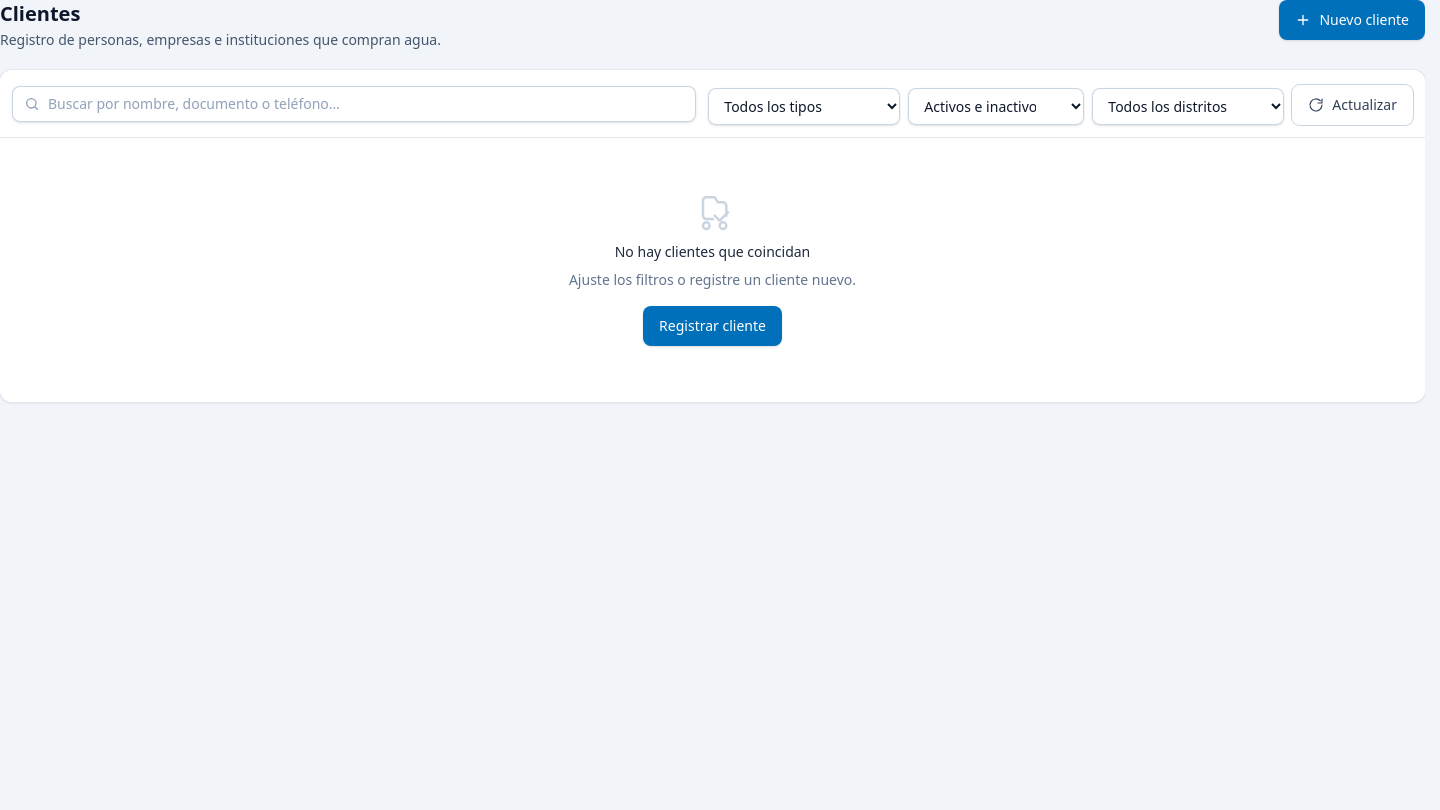
Scenario: alta de cliente › abre el formulario con los campos obligatorios
The width and height of the screenshot is (1440, 810).
Click the button "Nuevo cliente". click: (1352, 20)
box: [1279, 0, 1425, 40]
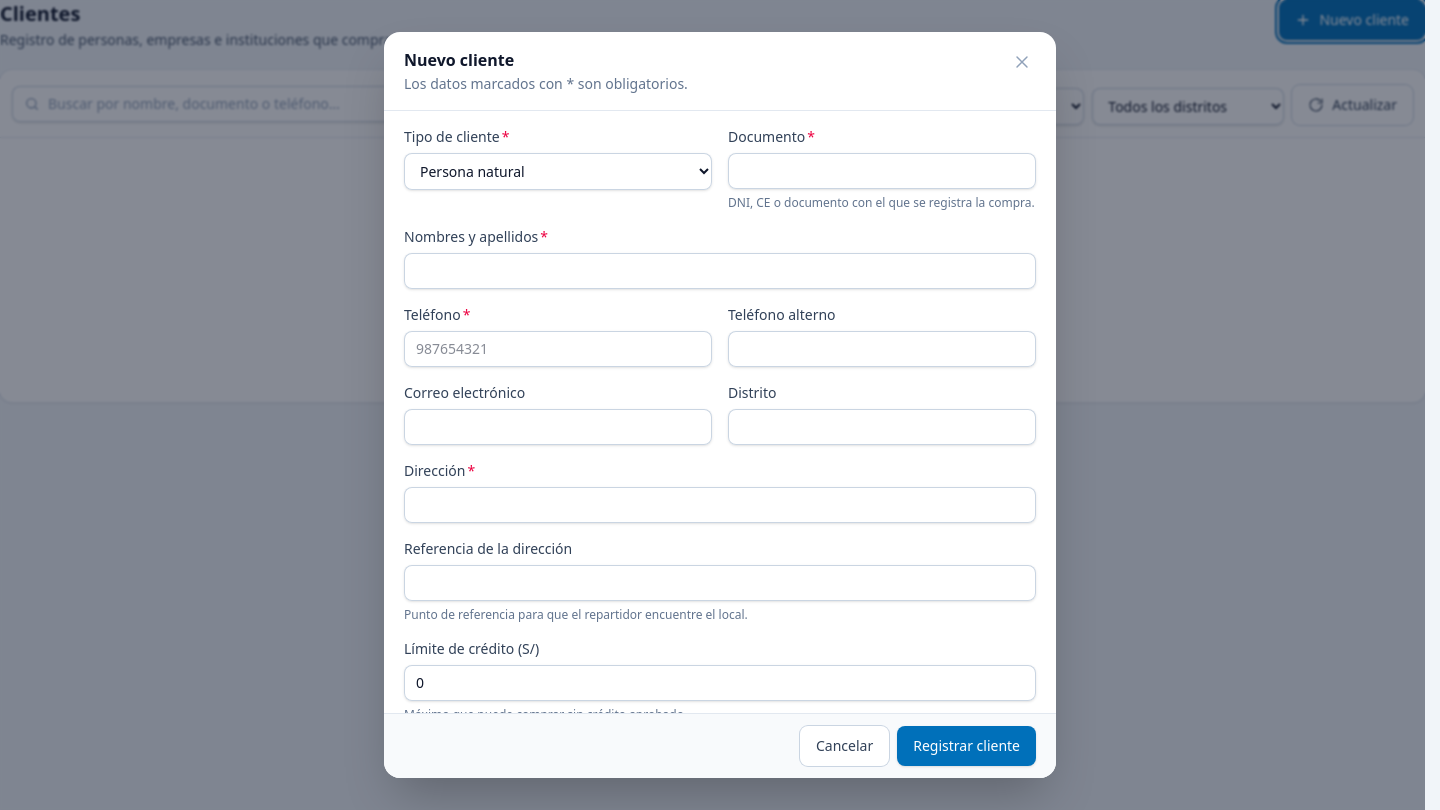
Result: the dropdown labelled "Tipo de cliente*" is shown at [404, 153, 712, 190]
